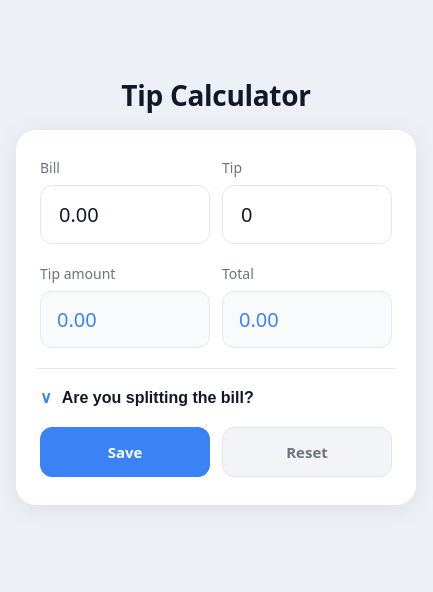
it: App – history › Save without split stores 1 person and the full total
The image size is (433, 592).
Replace the text in the field labelled "Bill" with "50". click: {"x": 125, "y": 214}
box: [57, 200, 193, 228]
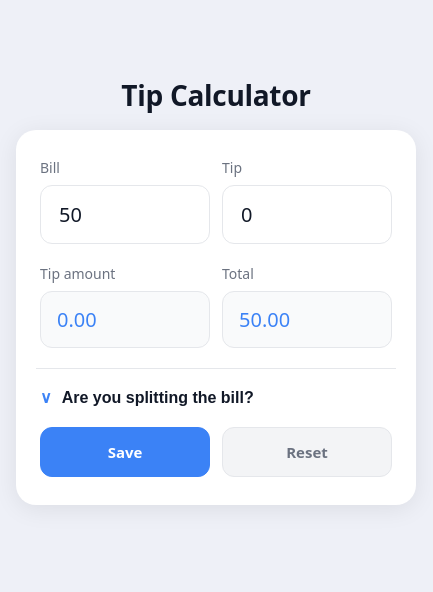
Replace the text in the number field labelled "Tip" with "15". click: {"x": 307, "y": 214}
box: [239, 200, 375, 228]
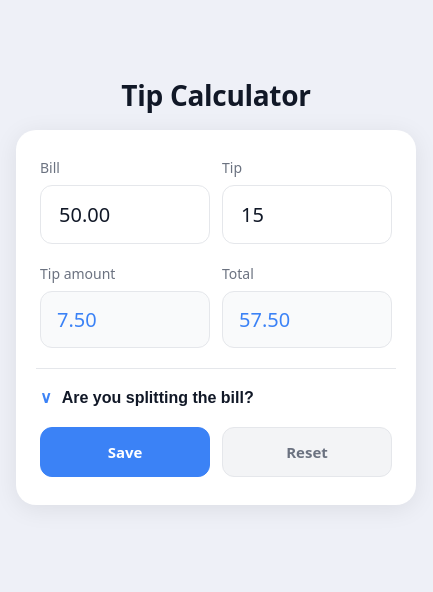
Click the button "Save". click: {"x": 125, "y": 452}
box: [40, 426, 210, 476]
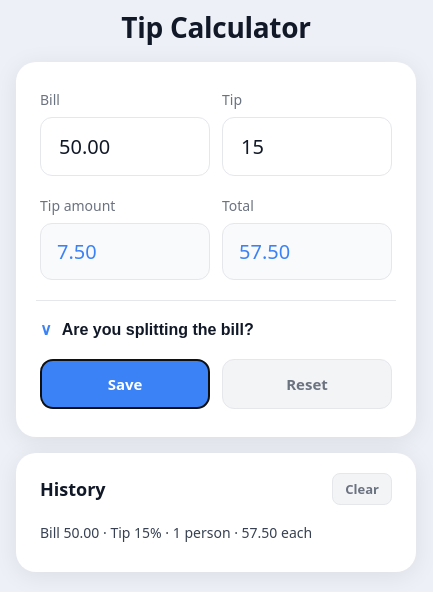
Expected: the list item shows "1 person", [40, 523, 312, 542]
Expected: the list item shows "57.50", [242, 523, 277, 542]
